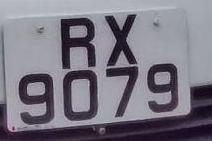0: (58, 64, 106, 126)
7: (99, 61, 147, 121)
9: (8, 65, 59, 131), (142, 57, 183, 118)
R: (52, 10, 104, 74)
X: (99, 7, 146, 70)
